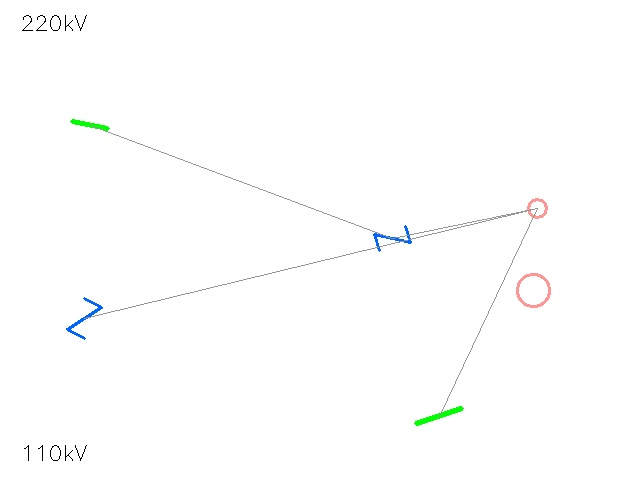busbar: (410, 387, 468, 445), (68, 103, 112, 147)
circuit_breaker: (64, 298, 104, 338), (374, 220, 410, 256)
reactor: (518, 189, 556, 227)
surge_arrester: (501, 258, 565, 322)
